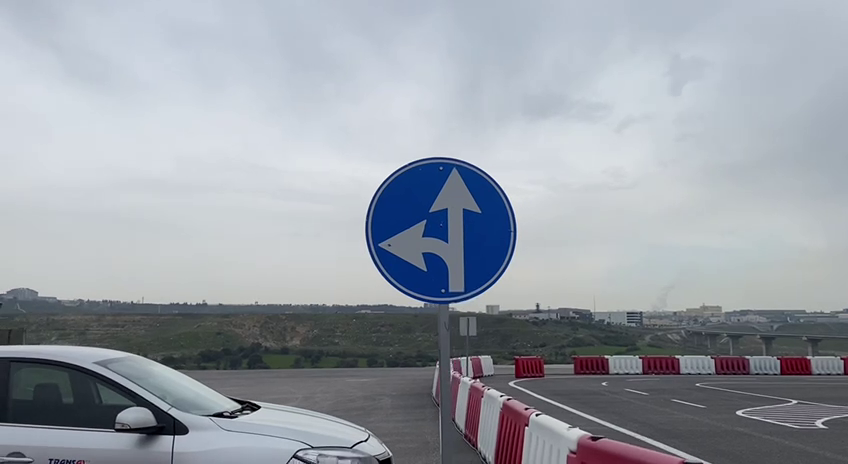forwardAndLeft: (362, 154, 520, 306)
